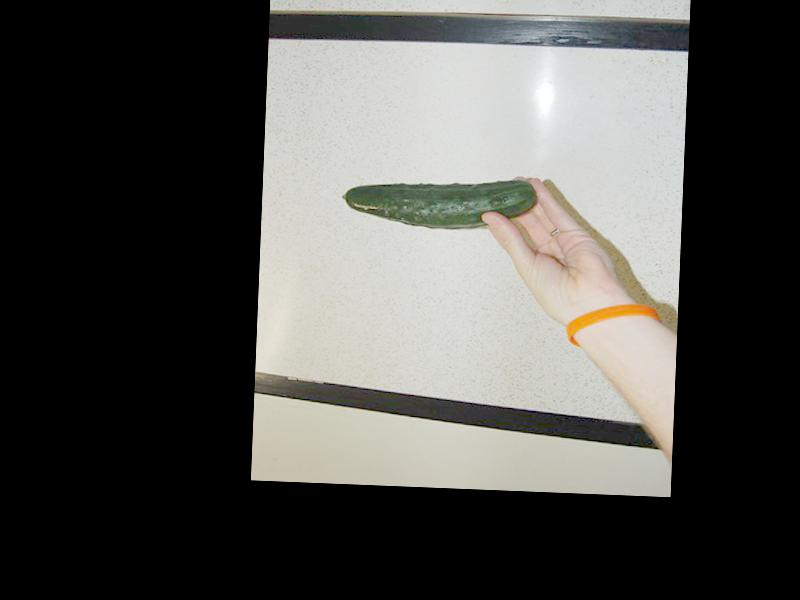Cucumber: (340, 172, 538, 230)
